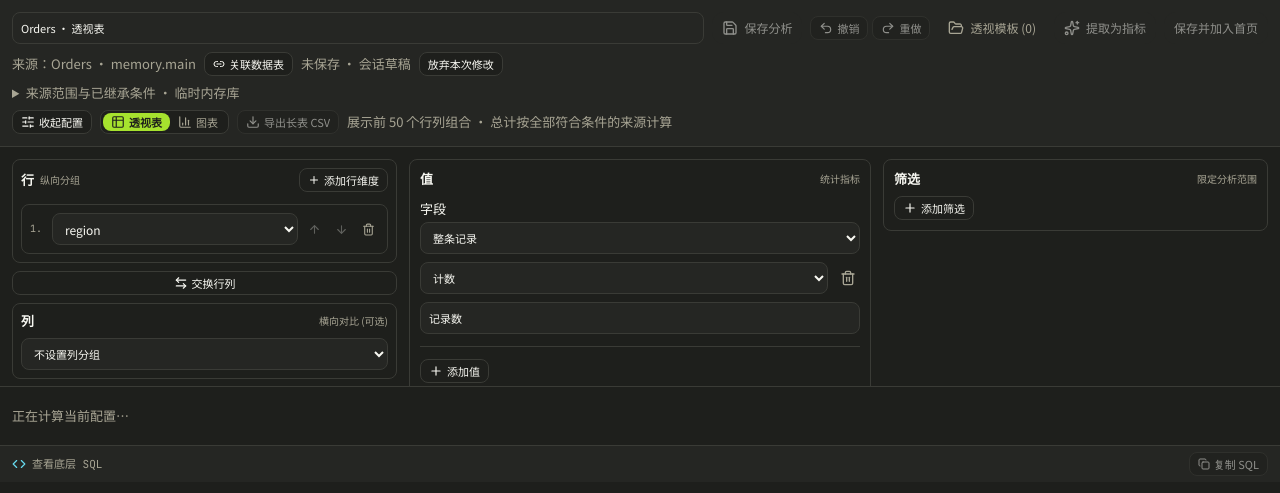
Test: pivot configuration history › merges rapid typing into one undo step and clears redo after a new edit
Replace the text in the field named "分析名称" with "A". click: (358, 28)
box: [12, 12, 704, 44]
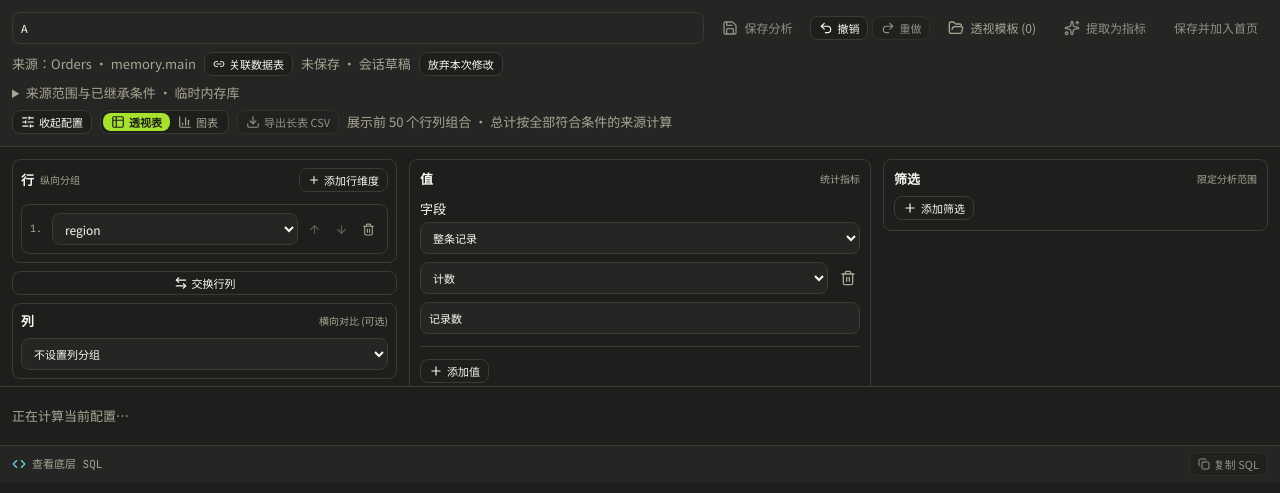
Replace the text in the field named "分析名称" with "AB". click: (358, 28)
box: [12, 12, 704, 44]
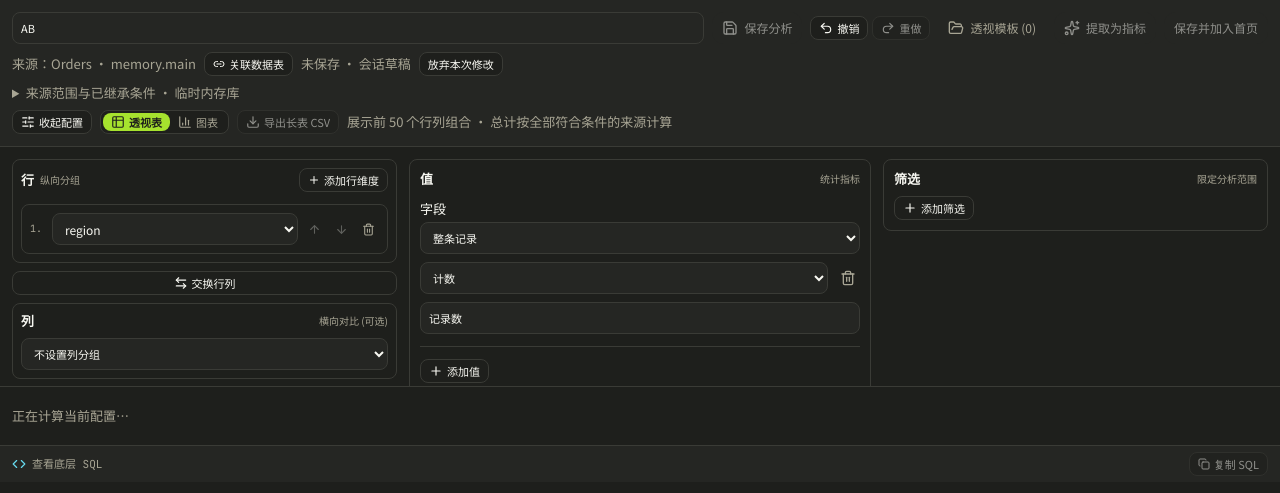
Click the button with aria-label "撤销配置修改". click: (840, 28)
box: [810, 16, 868, 40]
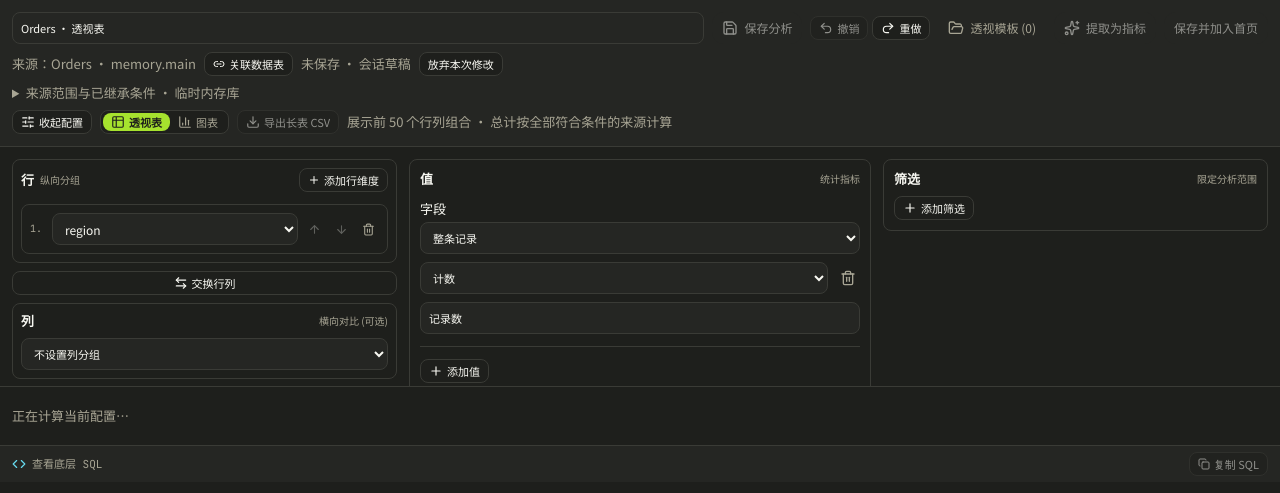
Expected: the field named "分析名称" holds "Orders · 透视表", [12, 12, 704, 44]
Expected: the button with aria-label "撤销配置修改" is disabled, [810, 16, 868, 40]
Select "month" in the dropdown labelled "行". click: (175, 229)
box: [52, 213, 298, 245]
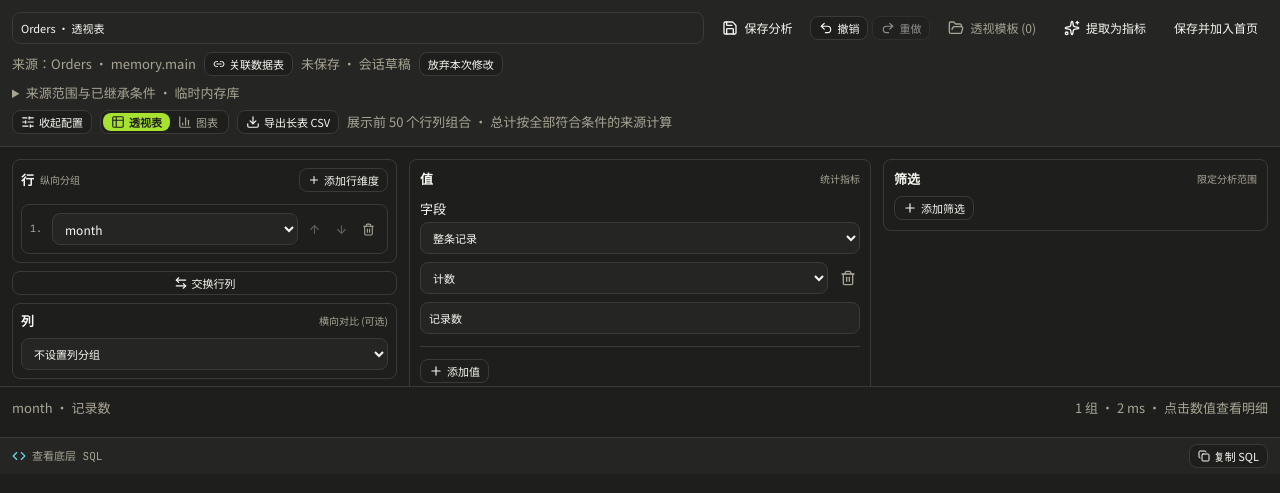
Expected: the button with aria-label "重做配置修改" is disabled, [872, 16, 930, 40]
